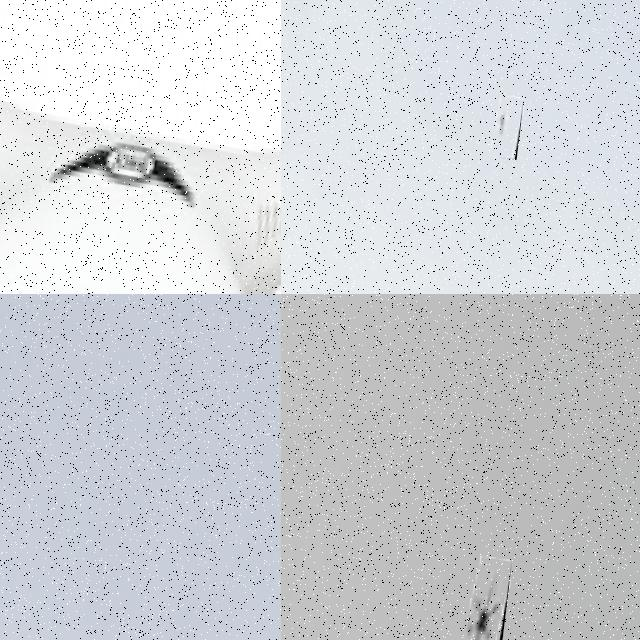drone: (0, 0, 281, 294), (461, 555, 511, 640), (491, 95, 524, 160)
